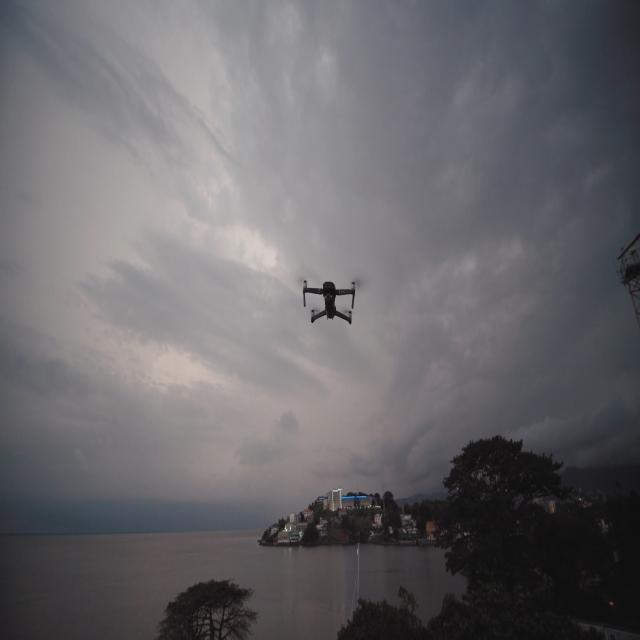drone: (302, 278, 356, 326)
